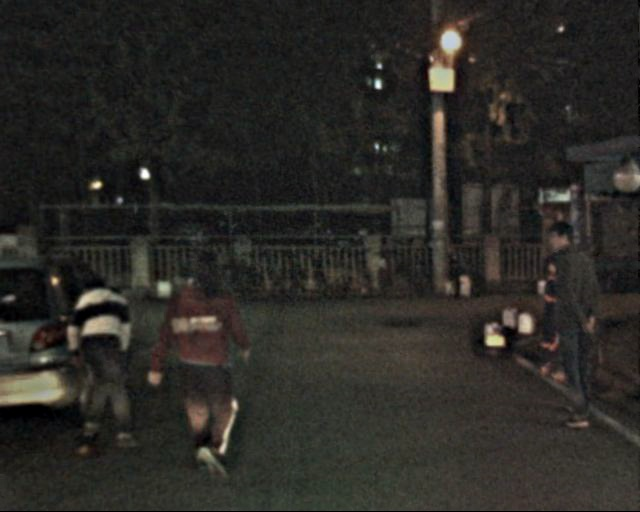person: (161, 243, 254, 484), (533, 212, 611, 438), (69, 261, 144, 451)
